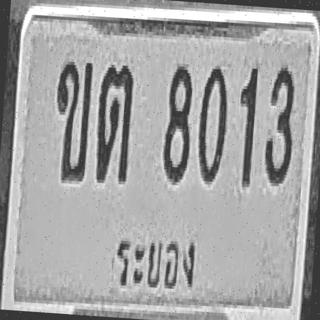A02: (50, 58, 93, 182)
A21: (93, 62, 134, 183)
N00: (195, 62, 230, 182)
N01: (234, 63, 258, 186)
N03: (262, 64, 297, 184)
N08: (161, 63, 194, 183)
P53: (108, 223, 204, 304)
